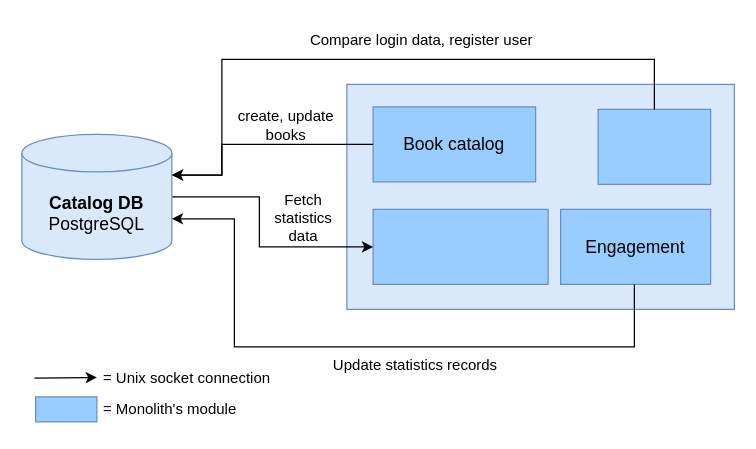
The diagram is 756 pixels wide and 449 high, and some of its shapes have lost their labels. The shapes that lost their labels are listed below. From the top down, each one's centre as x and y in pixels, then its label:
(x=654, y=146): Auth
(x=460, y=246): Recommendations
